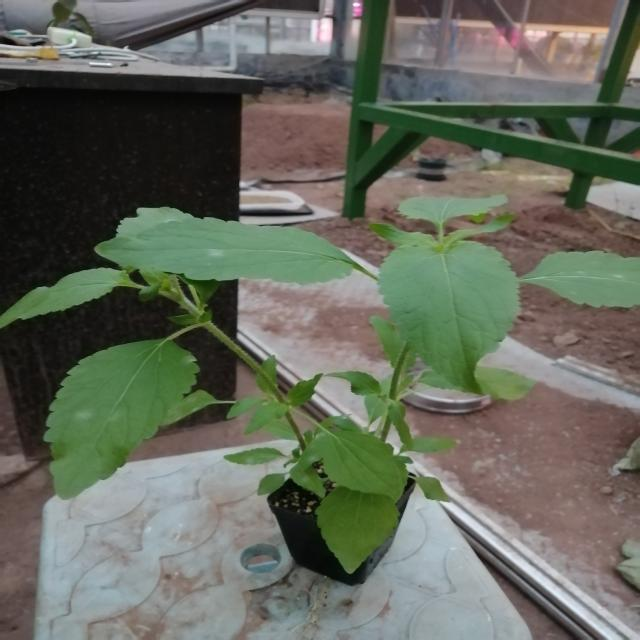billygoat_weed: (32, 177, 598, 460)
